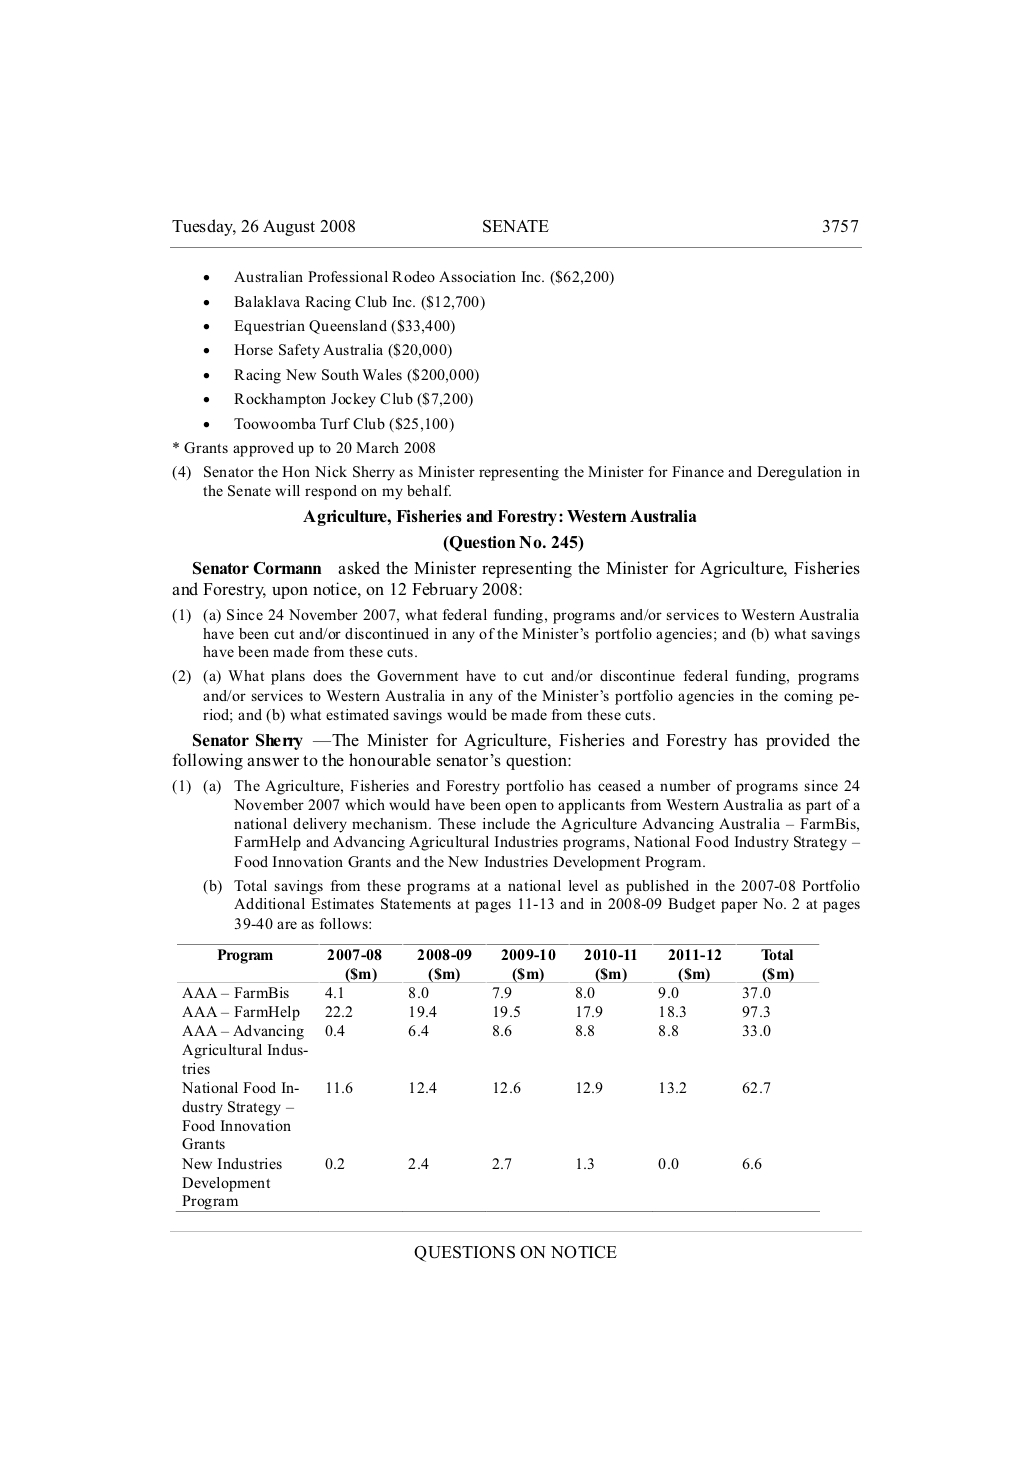Table: (175, 944, 819, 1211)
